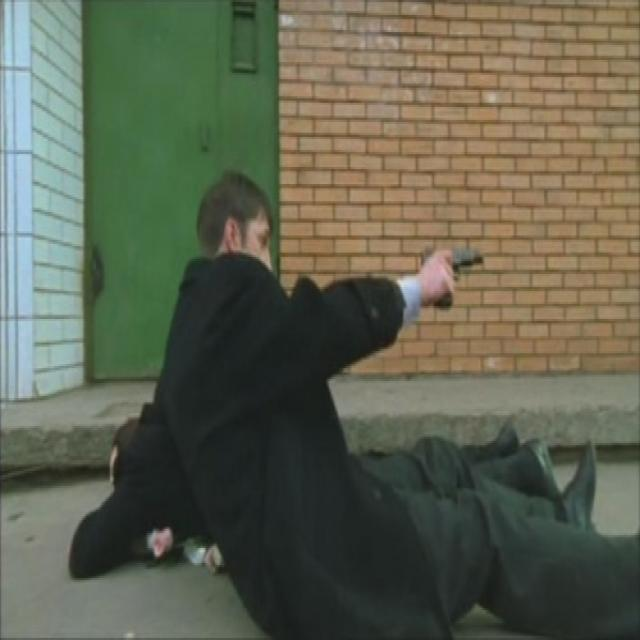weapons: (415, 228, 498, 341)
